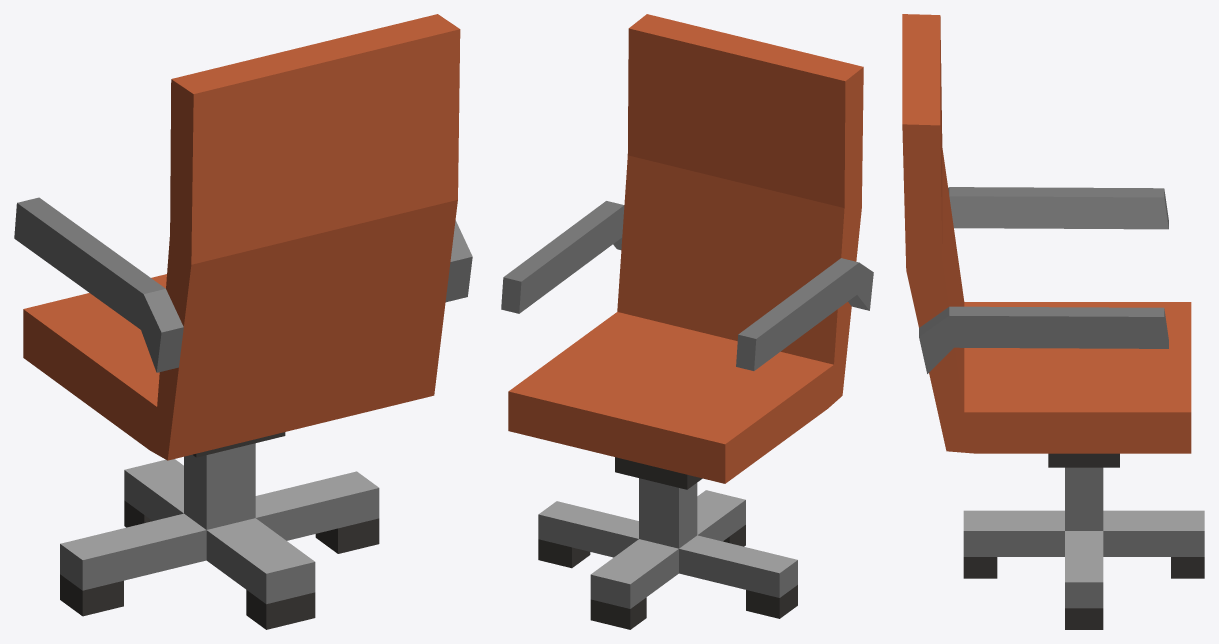
File: Chair.fbx
The picture shows the model from 3 angles, left to right: view 1: azimuth 30°, elevation 25°; view 2: azimuth 150°, elevation 25°; view 3: azimuth 270°, elevation 25°; orthographic projection. The views are drawn at different scales.
Visible parts, largest first — view 1: CHAIR; view 2: CHAIR; view 3: CHAIR.
Part boxes in pixels (left/top/right/bottom): CHAIR: left=14, top=14, right=472, bottom=629; CHAIR: left=501, top=14, right=873, bottom=629; CHAIR: left=902, top=14, right=1204, bottom=629.
Size of the model in its own units: 2.1 by 3.8 by 2.09.
